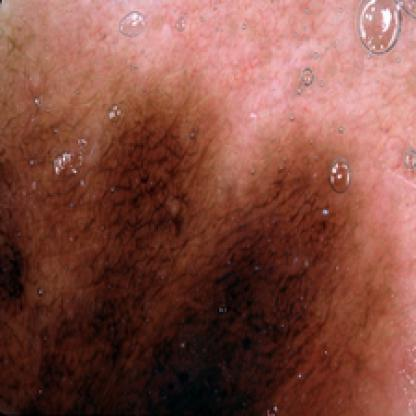malignant: (7, 65, 346, 407)
